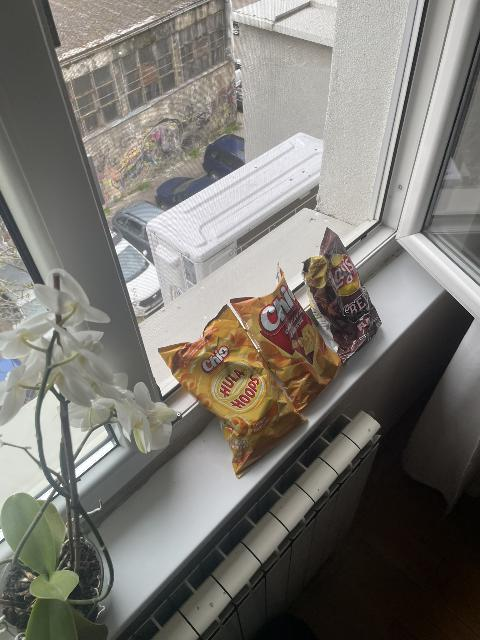Chio Cascaval 125g: (235, 268, 339, 408)
Chio Hula Hoops Cheese 70g: (157, 309, 311, 473)
Lays Beef Grilled Ribs 125g: (305, 229, 384, 356)
